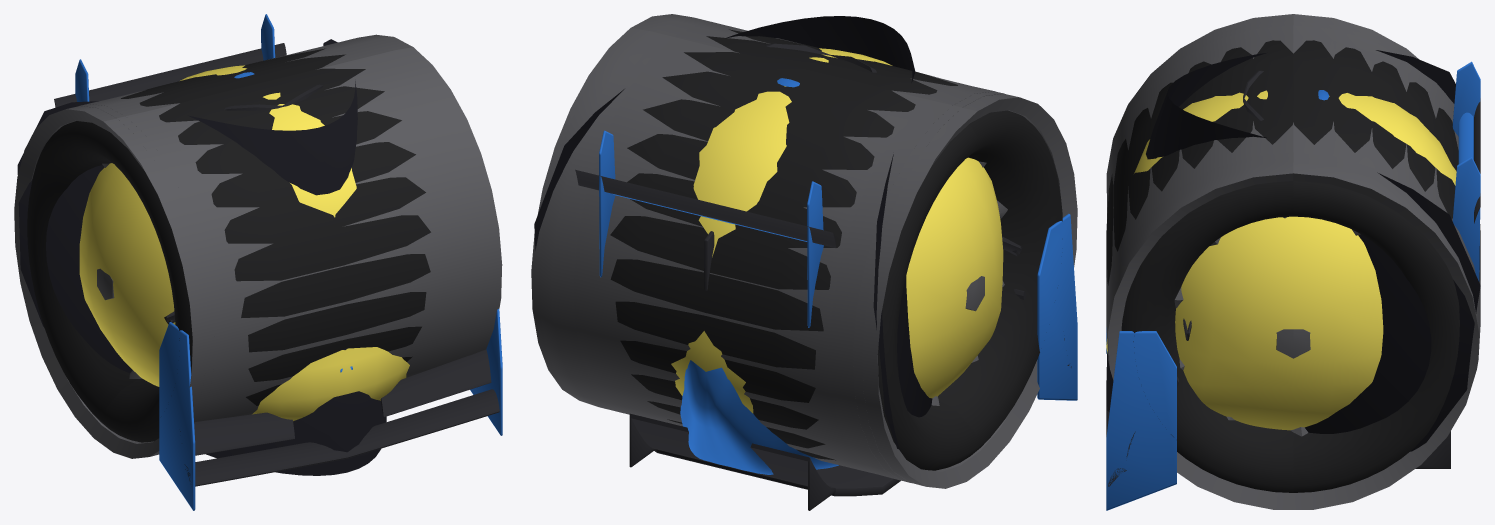
The picture shows the model from 3 angles, left to right: view 1: azimuth 30°, elevation 25°; view 2: azimuth 150°, elevation 25°; view 3: azimuth 270°, elevation 25°; orthographic projection. The views are drawn at different scales.
Parts seen in each view (by area): view 1: tyre_FR, rim_FL, helmet, tyre_FL, visor, rim_FR, carbon, body, tyre_RR, rim_RR, rim_RL, tyre_RL; view 2: tyre_RR, rim_FL, helmet, tyre_RL, rim_RL, body, rim_FR, rim_RR, carbon, visor, tyre_FR, tyre_FL; view 3: helmet, tyre_RL, tyre_FL, rim_FR, visor, body, rim_FL, tyre_RR, tyre_FR, rim_RL, rim_RR, carbon.
Part boxes in pixels (x1=…): tyre_FR: x1=27, y1=83, x2=347, y2=442; rim_FL: x1=14, y1=42, x2=464, y2=458; helmet: x1=79, y1=65, x2=409, y2=421; tyre_FL: x1=241, y1=68, x2=430, y2=362; visor: x1=17, y1=39, x2=386, y2=475; rim_FR: x1=88, y1=35, x2=502, y2=421; carbon: x1=54, y1=43, x2=499, y2=486; body: x1=75, y1=14, x2=502, y2=510; tyre_RR: x1=31, y1=73, x2=257, y2=432; rim_RR: x1=80, y1=34, x2=412, y2=421; rim_RL: x1=35, y1=40, x2=472, y2=458; tyre_RL: x1=237, y1=48, x2=345, y2=83; tyre_RR: x1=704, y1=68, x2=1062, y2=470; rim_FL: x1=573, y1=23, x2=1076, y2=488; helmet: x1=671, y1=48, x2=1003, y2=413; tyre_RL: x1=610, y1=52, x2=829, y2=423; rim_RL: x1=564, y1=20, x2=1077, y2=486; body: x1=599, y1=78, x2=1077, y2=474; rim_FR: x1=538, y1=14, x2=995, y2=480; rim_RR: x1=531, y1=20, x2=1007, y2=482; carbon: x1=575, y1=43, x2=1071, y2=510; visor: x1=534, y1=16, x2=932, y2=452; tyre_FR: x1=804, y1=56, x2=1057, y2=459; tyre_FL: x1=706, y1=29, x2=827, y2=68; helmet: x1=1106, y1=90, x2=1456, y2=430; tyre_RL: x1=1133, y1=93, x2=1480, y2=492; tyre_FL: x1=1106, y1=93, x2=1453, y2=492; rim_FR: x1=1106, y1=25, x2=1480, y2=509; visor: x1=1106, y1=50, x2=1480, y2=451; body: x1=1106, y1=61, x2=1480, y2=510; rim_FL: x1=1106, y1=14, x2=1480, y2=351; tyre_RR: x1=1293, y1=40, x2=1480, y2=258; tyre_FR: x1=1106, y1=40, x2=1293, y2=258; rim_RL: x1=1106, y1=14, x2=1480, y2=436; rim_RR: x1=1106, y1=21, x2=1480, y2=509; carbon: x1=1106, y1=70, x2=1480, y2=486.
Size of the model in its own units: 65536 by 65534 by 65537.
